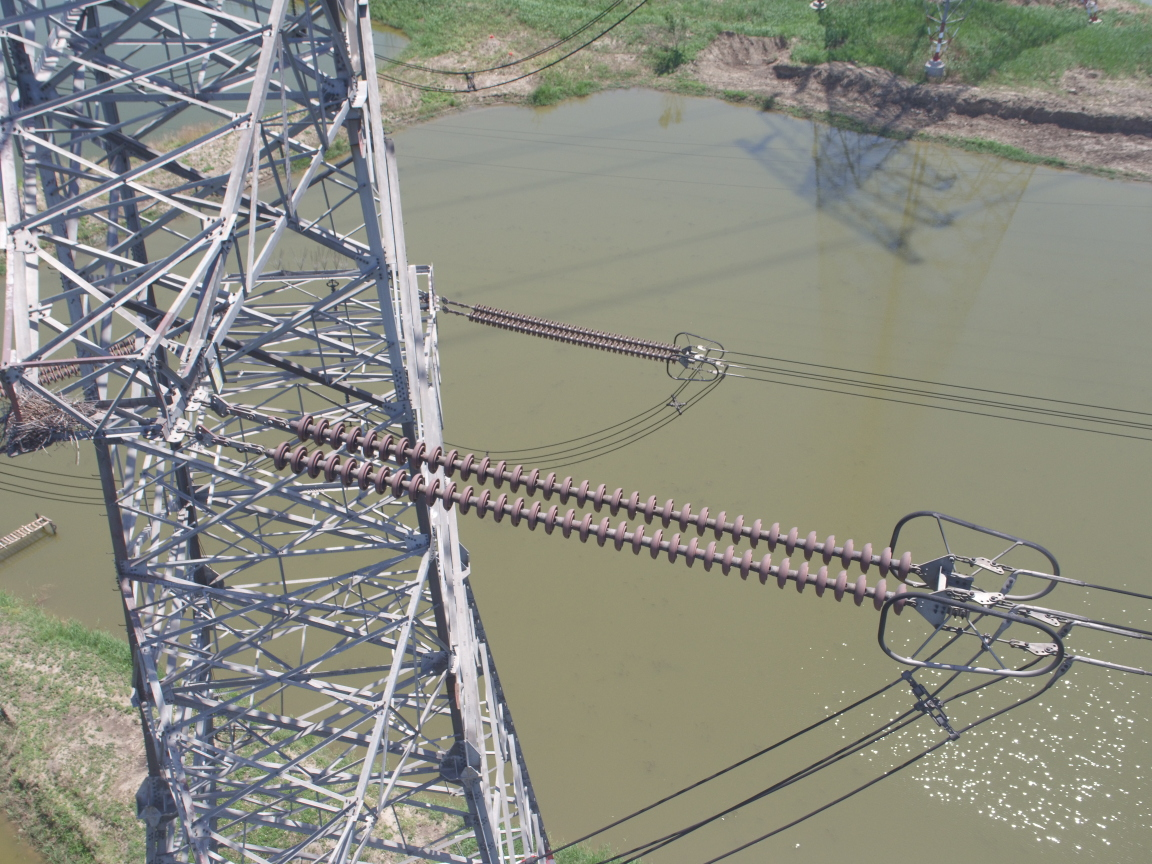insulator: (244, 410, 931, 620), (453, 303, 687, 365)
